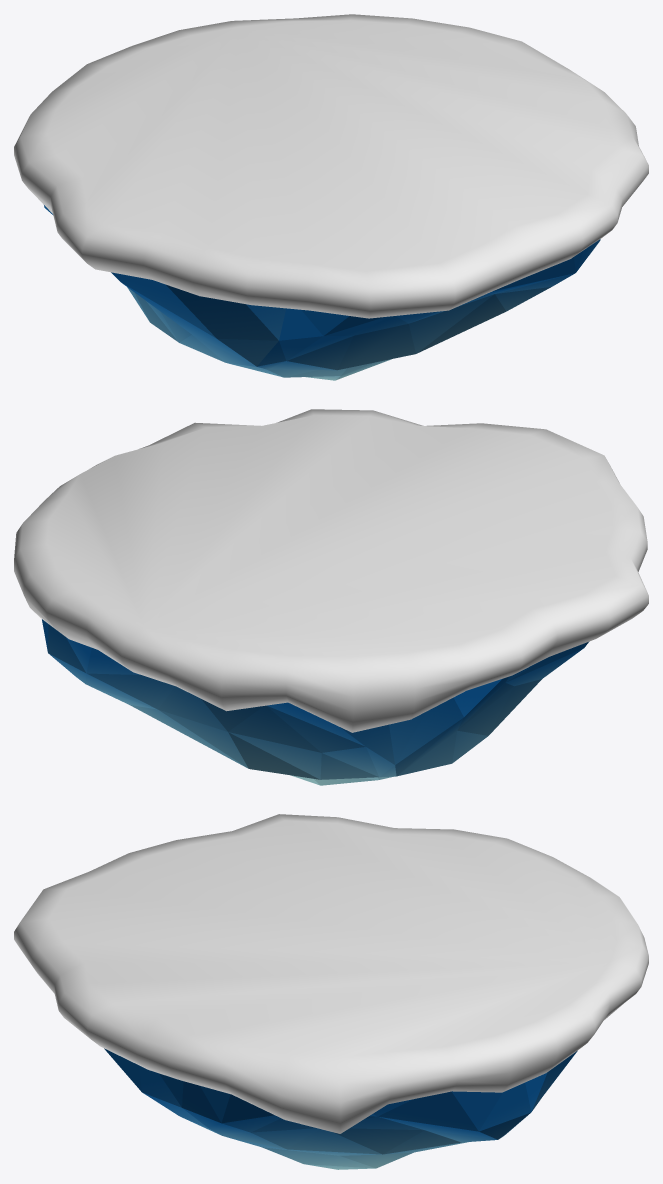
File: Floating_IcePlatform01.fbx
3 views of the same model, one above another, from view 1: azimuth 30°, elevation 25°; view 2: azimuth 150°, elevation 25°; view 3: azimuth 270°, elevation 25° (orthographic). The views are drawn at different scales.
Visible parts, largest first — view 1: FloatingPlatform01.Top, FloatingPlatform01; view 2: FloatingPlatform01.Top, FloatingPlatform01; view 3: FloatingPlatform01.Top, FloatingPlatform01.
Part boxes in pixels (x1,y1,x2,y2): FloatingPlatform01.Top: (14,14,648,318); FloatingPlatform01: (44,205,600,380); FloatingPlatform01.Top: (14,409,648,732); FloatingPlatform01: (42,619,589,785); FloatingPlatform01.Top: (14,814,648,1133); FloatingPlatform01: (104,1048,577,1169).
Bounding box in the file's own units: 7.38 × 2.99 × 7.49.
